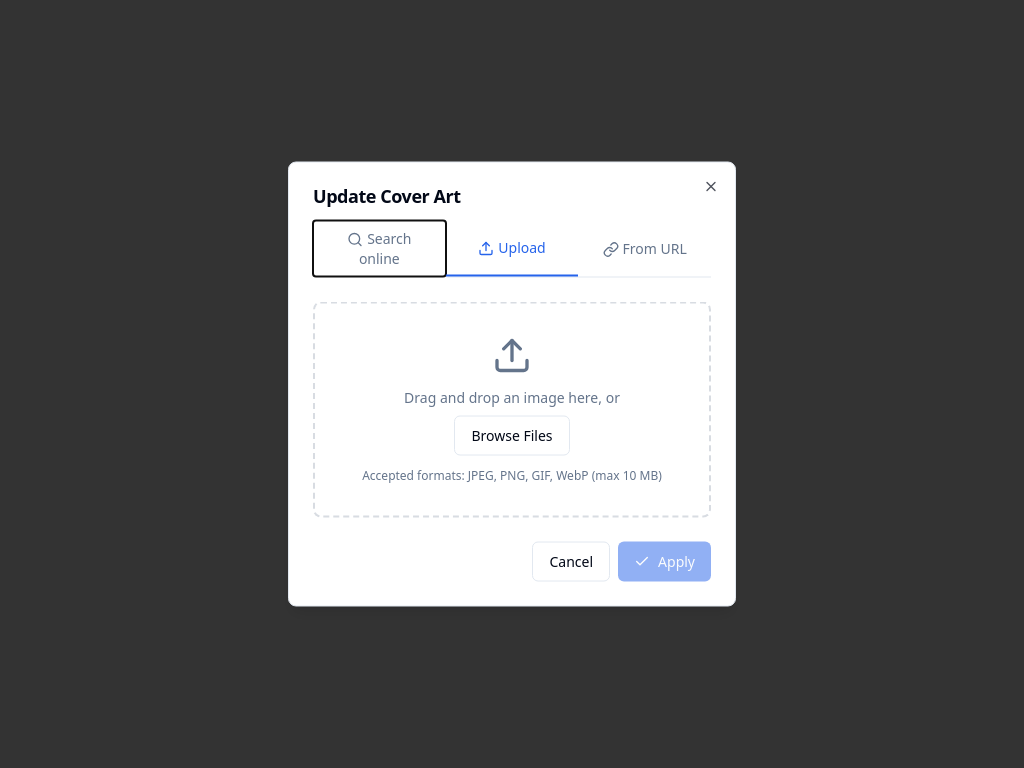
Scenario: CoverArtUpload › Mode tabs › should switch back to Upload mode when Upload tab is clicked
// Switch to URL mode
What coordinates should you click on to do the following:
click the button "From URL"
I would click on:
 (645, 248)
Its box is [578,220,711,276].
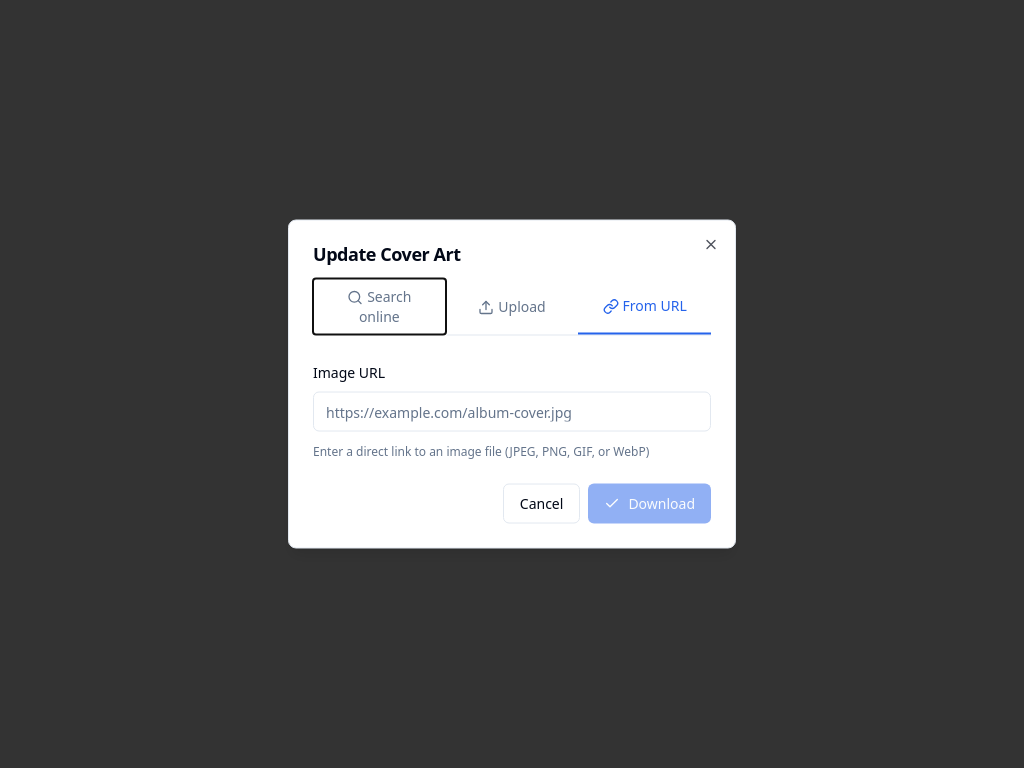
// Switch back to Upload mode
What coordinates should you click on to do the following:
click the button "Upload"
I would click on:
 (512, 306)
Its box is [446,278,578,334].
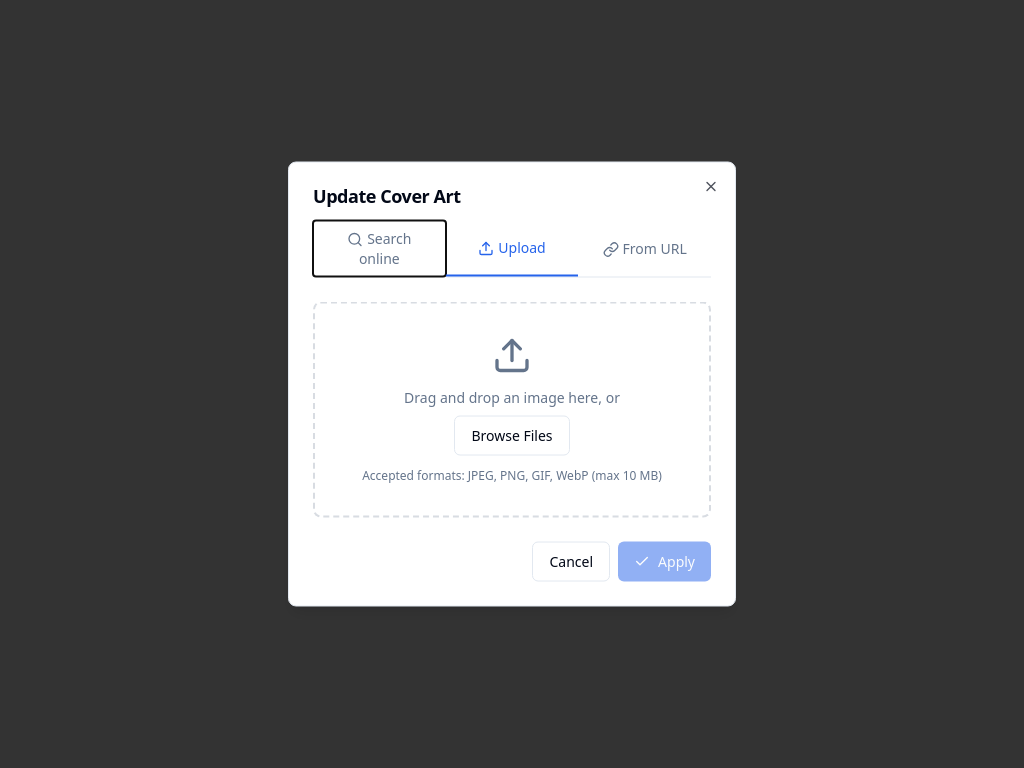
Result: the text "Drag and drop an image here, or" is shown at [404,388,620,406]
